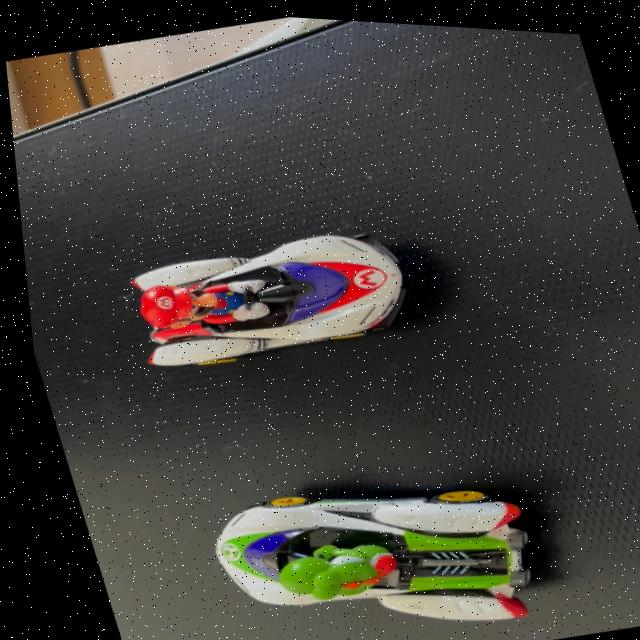mario: (100, 197, 428, 396)
yoshi: (147, 419, 579, 640)
